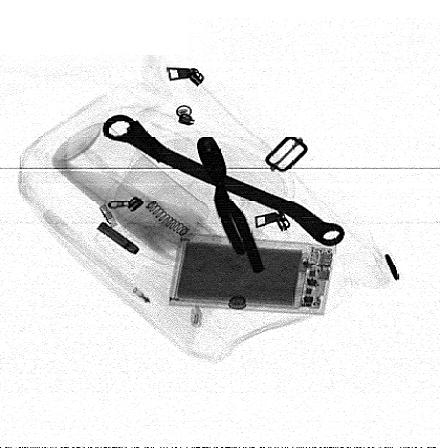Pliers: (196, 136, 266, 274)
Powerbank: (167, 233, 335, 315)
Wrench: (103, 112, 346, 246)
